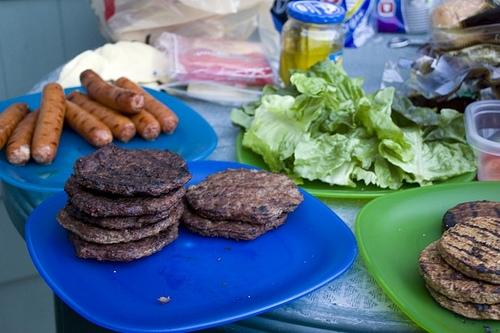lettuce: (241, 93, 323, 173), (378, 125, 478, 181), (288, 57, 364, 109), (353, 96, 411, 152), (306, 98, 361, 140), (391, 90, 438, 127), (230, 108, 254, 132), (350, 165, 378, 185), (242, 102, 255, 115)
